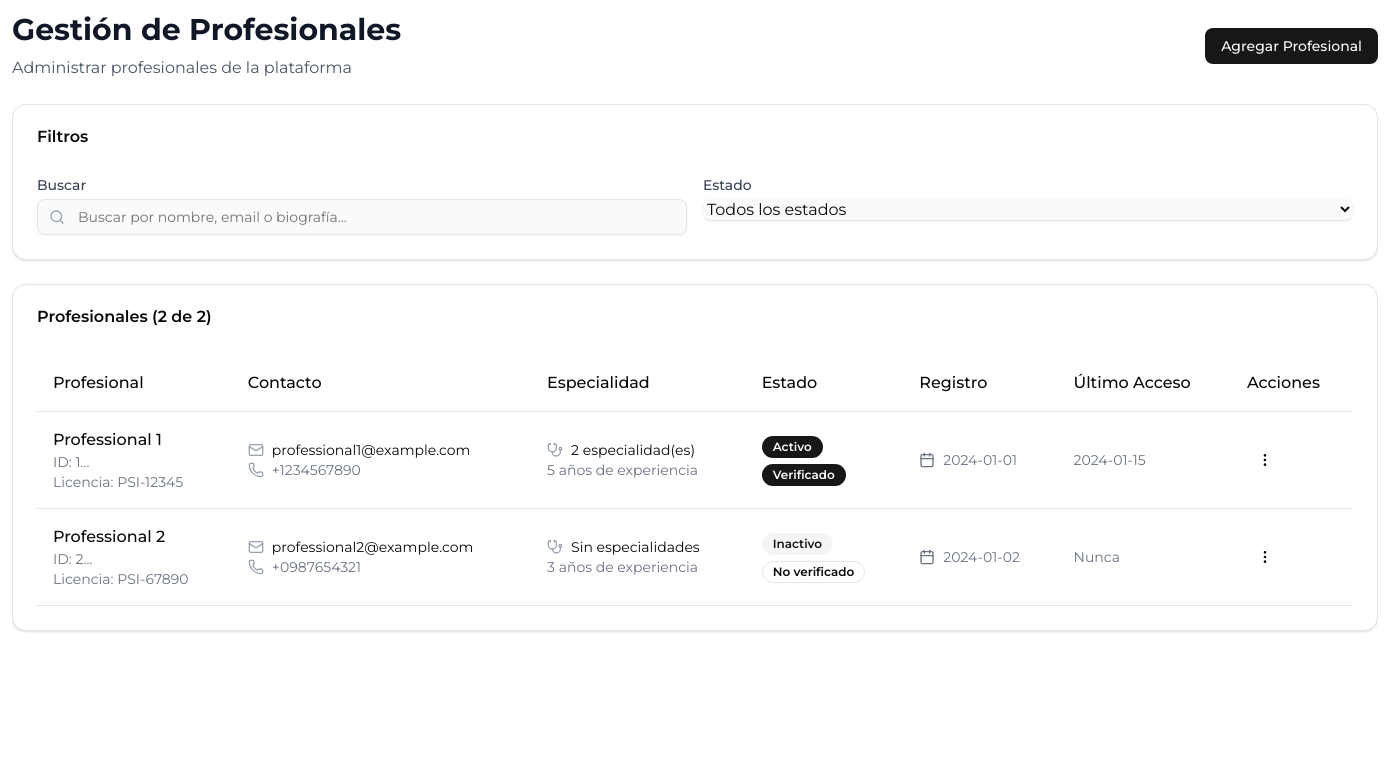
AdminProfessionals › should filter professionals by status
Expected: the text "professional1@example.com" is shown, left=272, top=440, right=470, bottom=460
Select "Activos" in the dropdown showing "Todos los estados": (1028, 210) left=703, top=199, right=1353, bottom=220
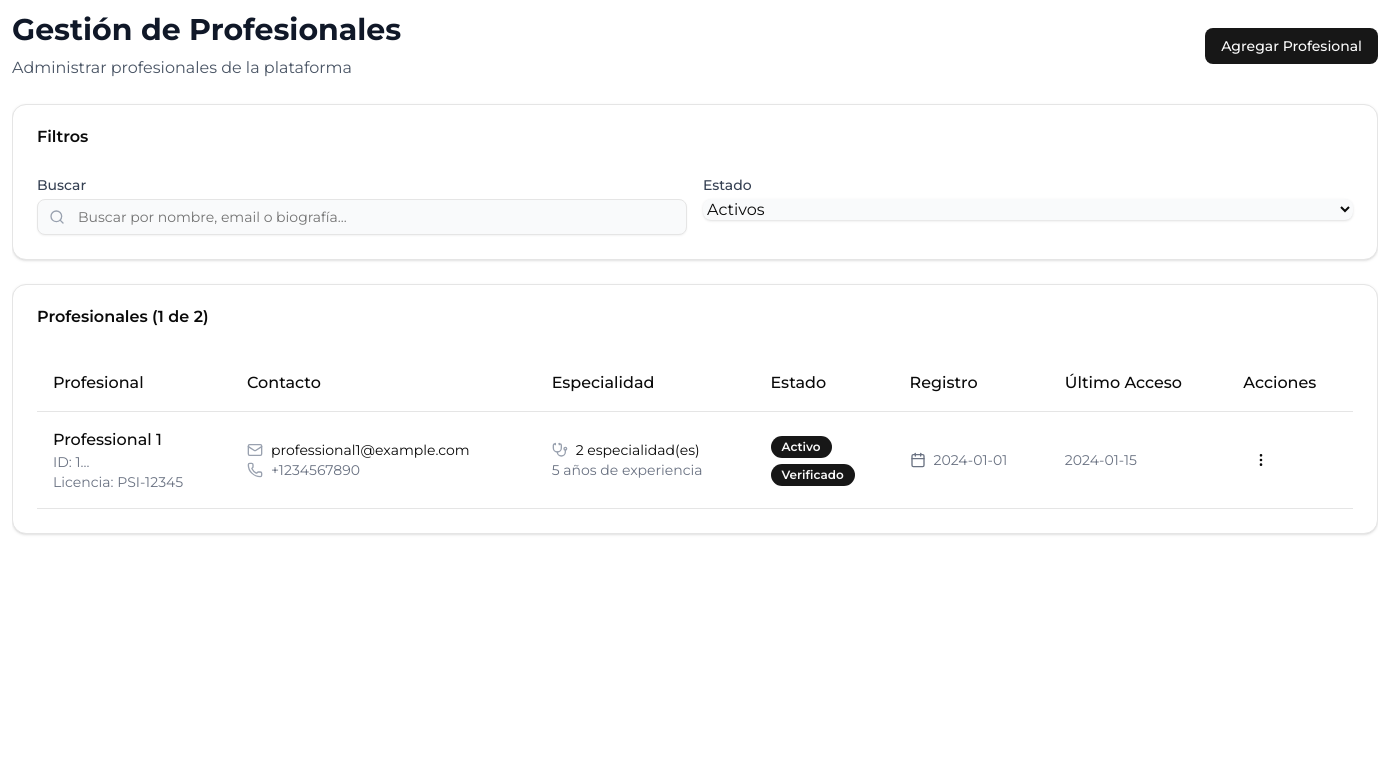
Expected: the text "professional1@example.com" is shown, left=271, top=440, right=470, bottom=460
Expected: the text "professional2@example.com" is gone
